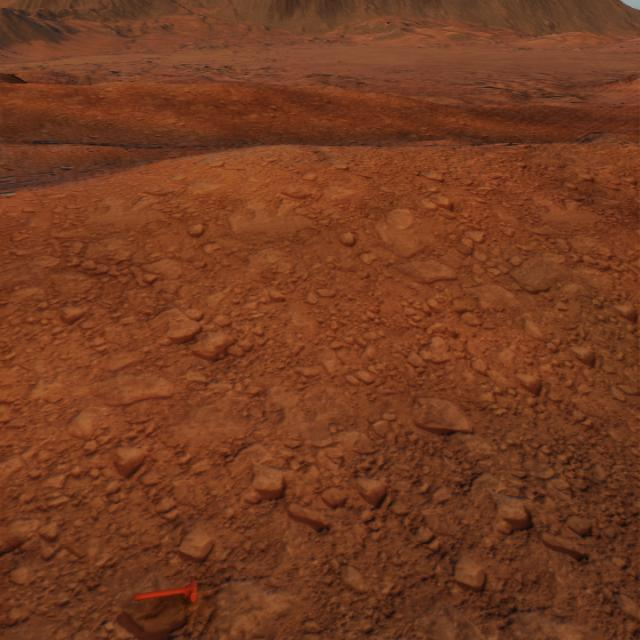newhammer: (135, 575, 197, 603)
